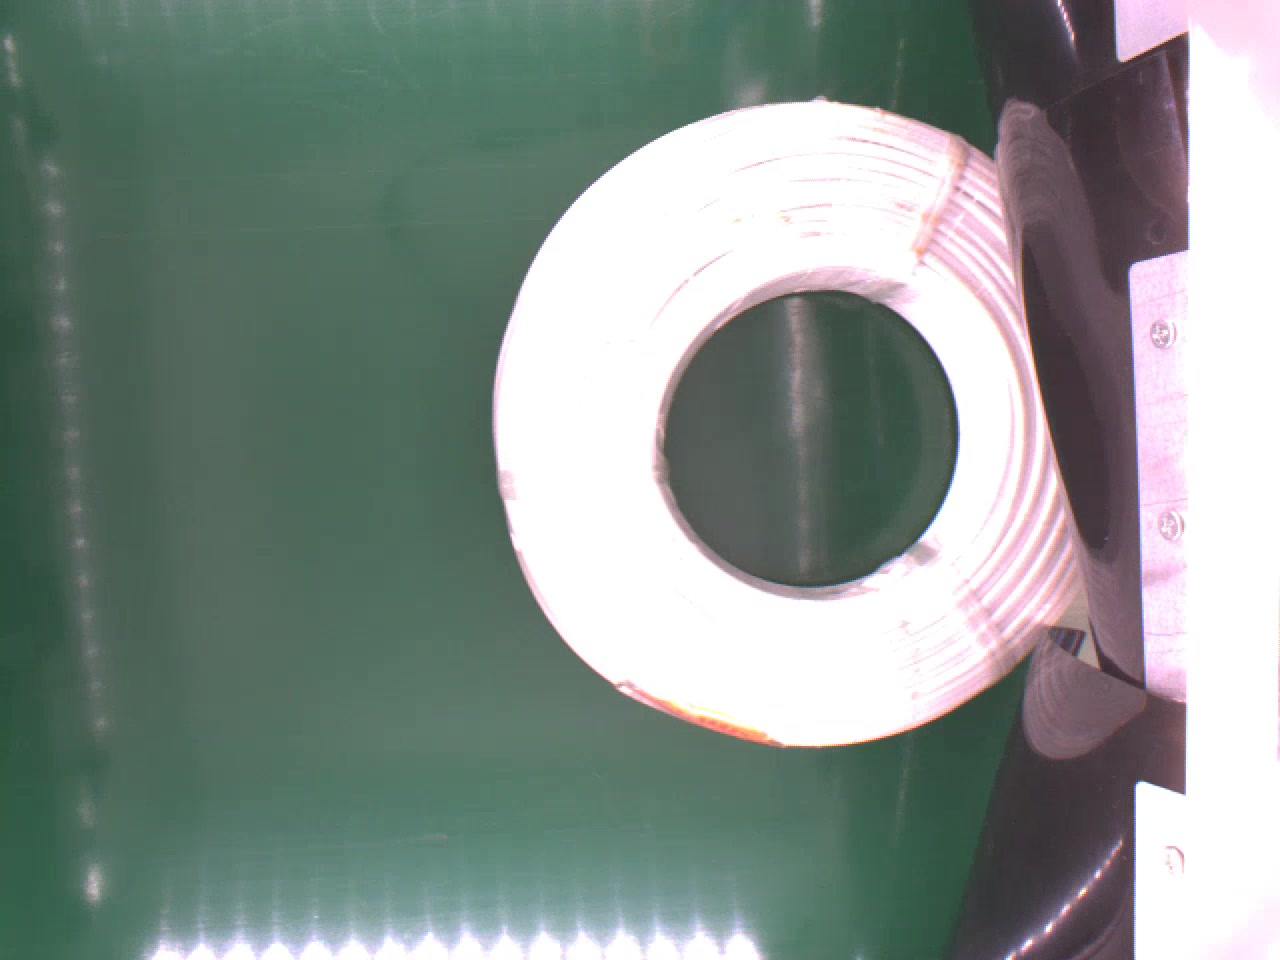white: (486, 94, 1085, 759)
